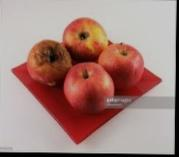red apple: (62, 59, 116, 114), (96, 39, 147, 91), (62, 16, 109, 60)
rotten apple: (26, 38, 71, 87)
